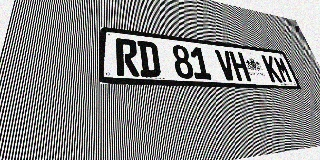1: (188, 46, 212, 80)
8: (171, 44, 195, 79)
D: (137, 40, 161, 77)
H: (229, 51, 251, 81)
K: (261, 55, 283, 83)
M: (272, 56, 294, 83)
R: (115, 38, 140, 77)
V: (215, 49, 238, 81)
